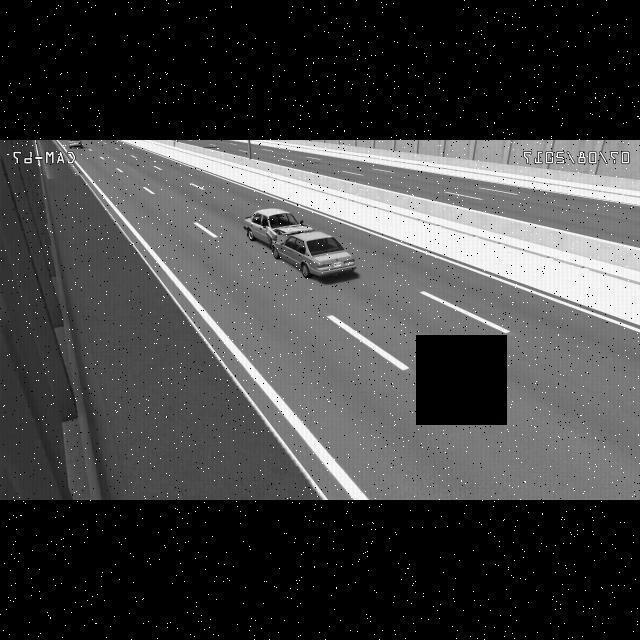accident: (241, 206, 360, 281)
vehicle: (68, 139, 85, 152)
